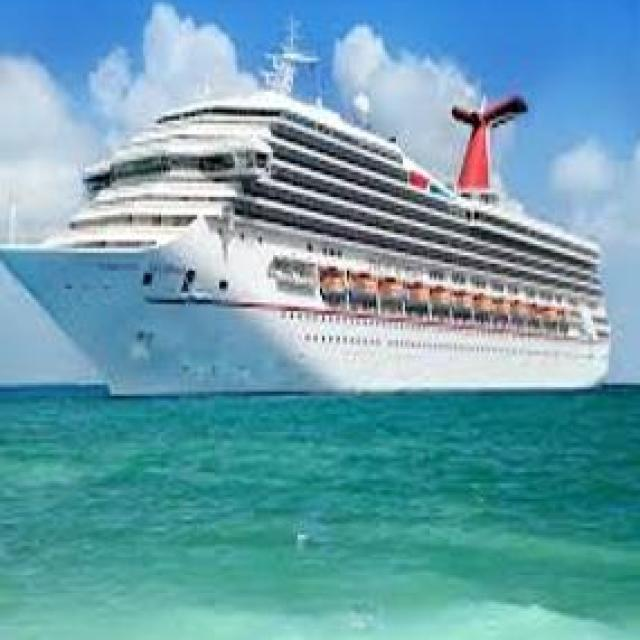passenger ship: (8, 18, 616, 405)
